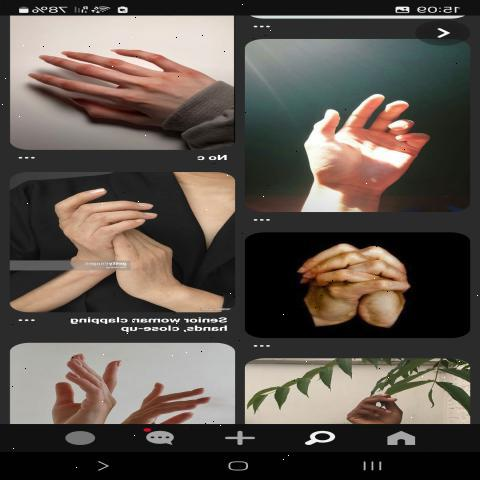Hands: (258, 76, 439, 208), (22, 24, 216, 142), (39, 175, 164, 294)
